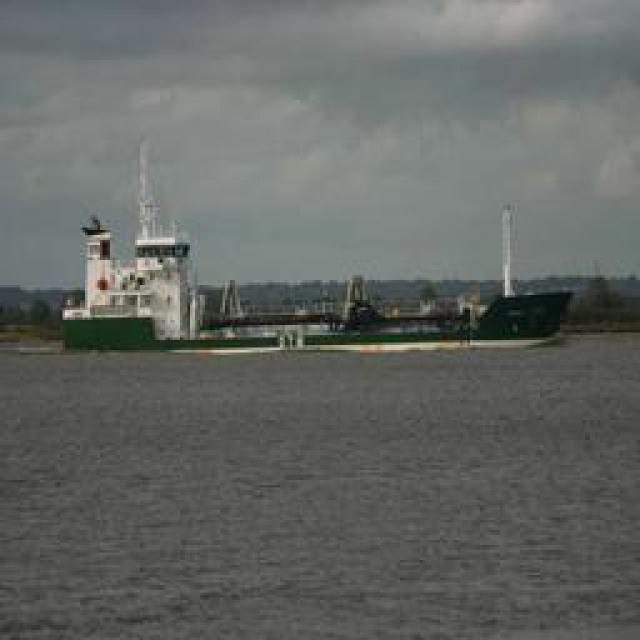Ship: (62, 139, 582, 362)
